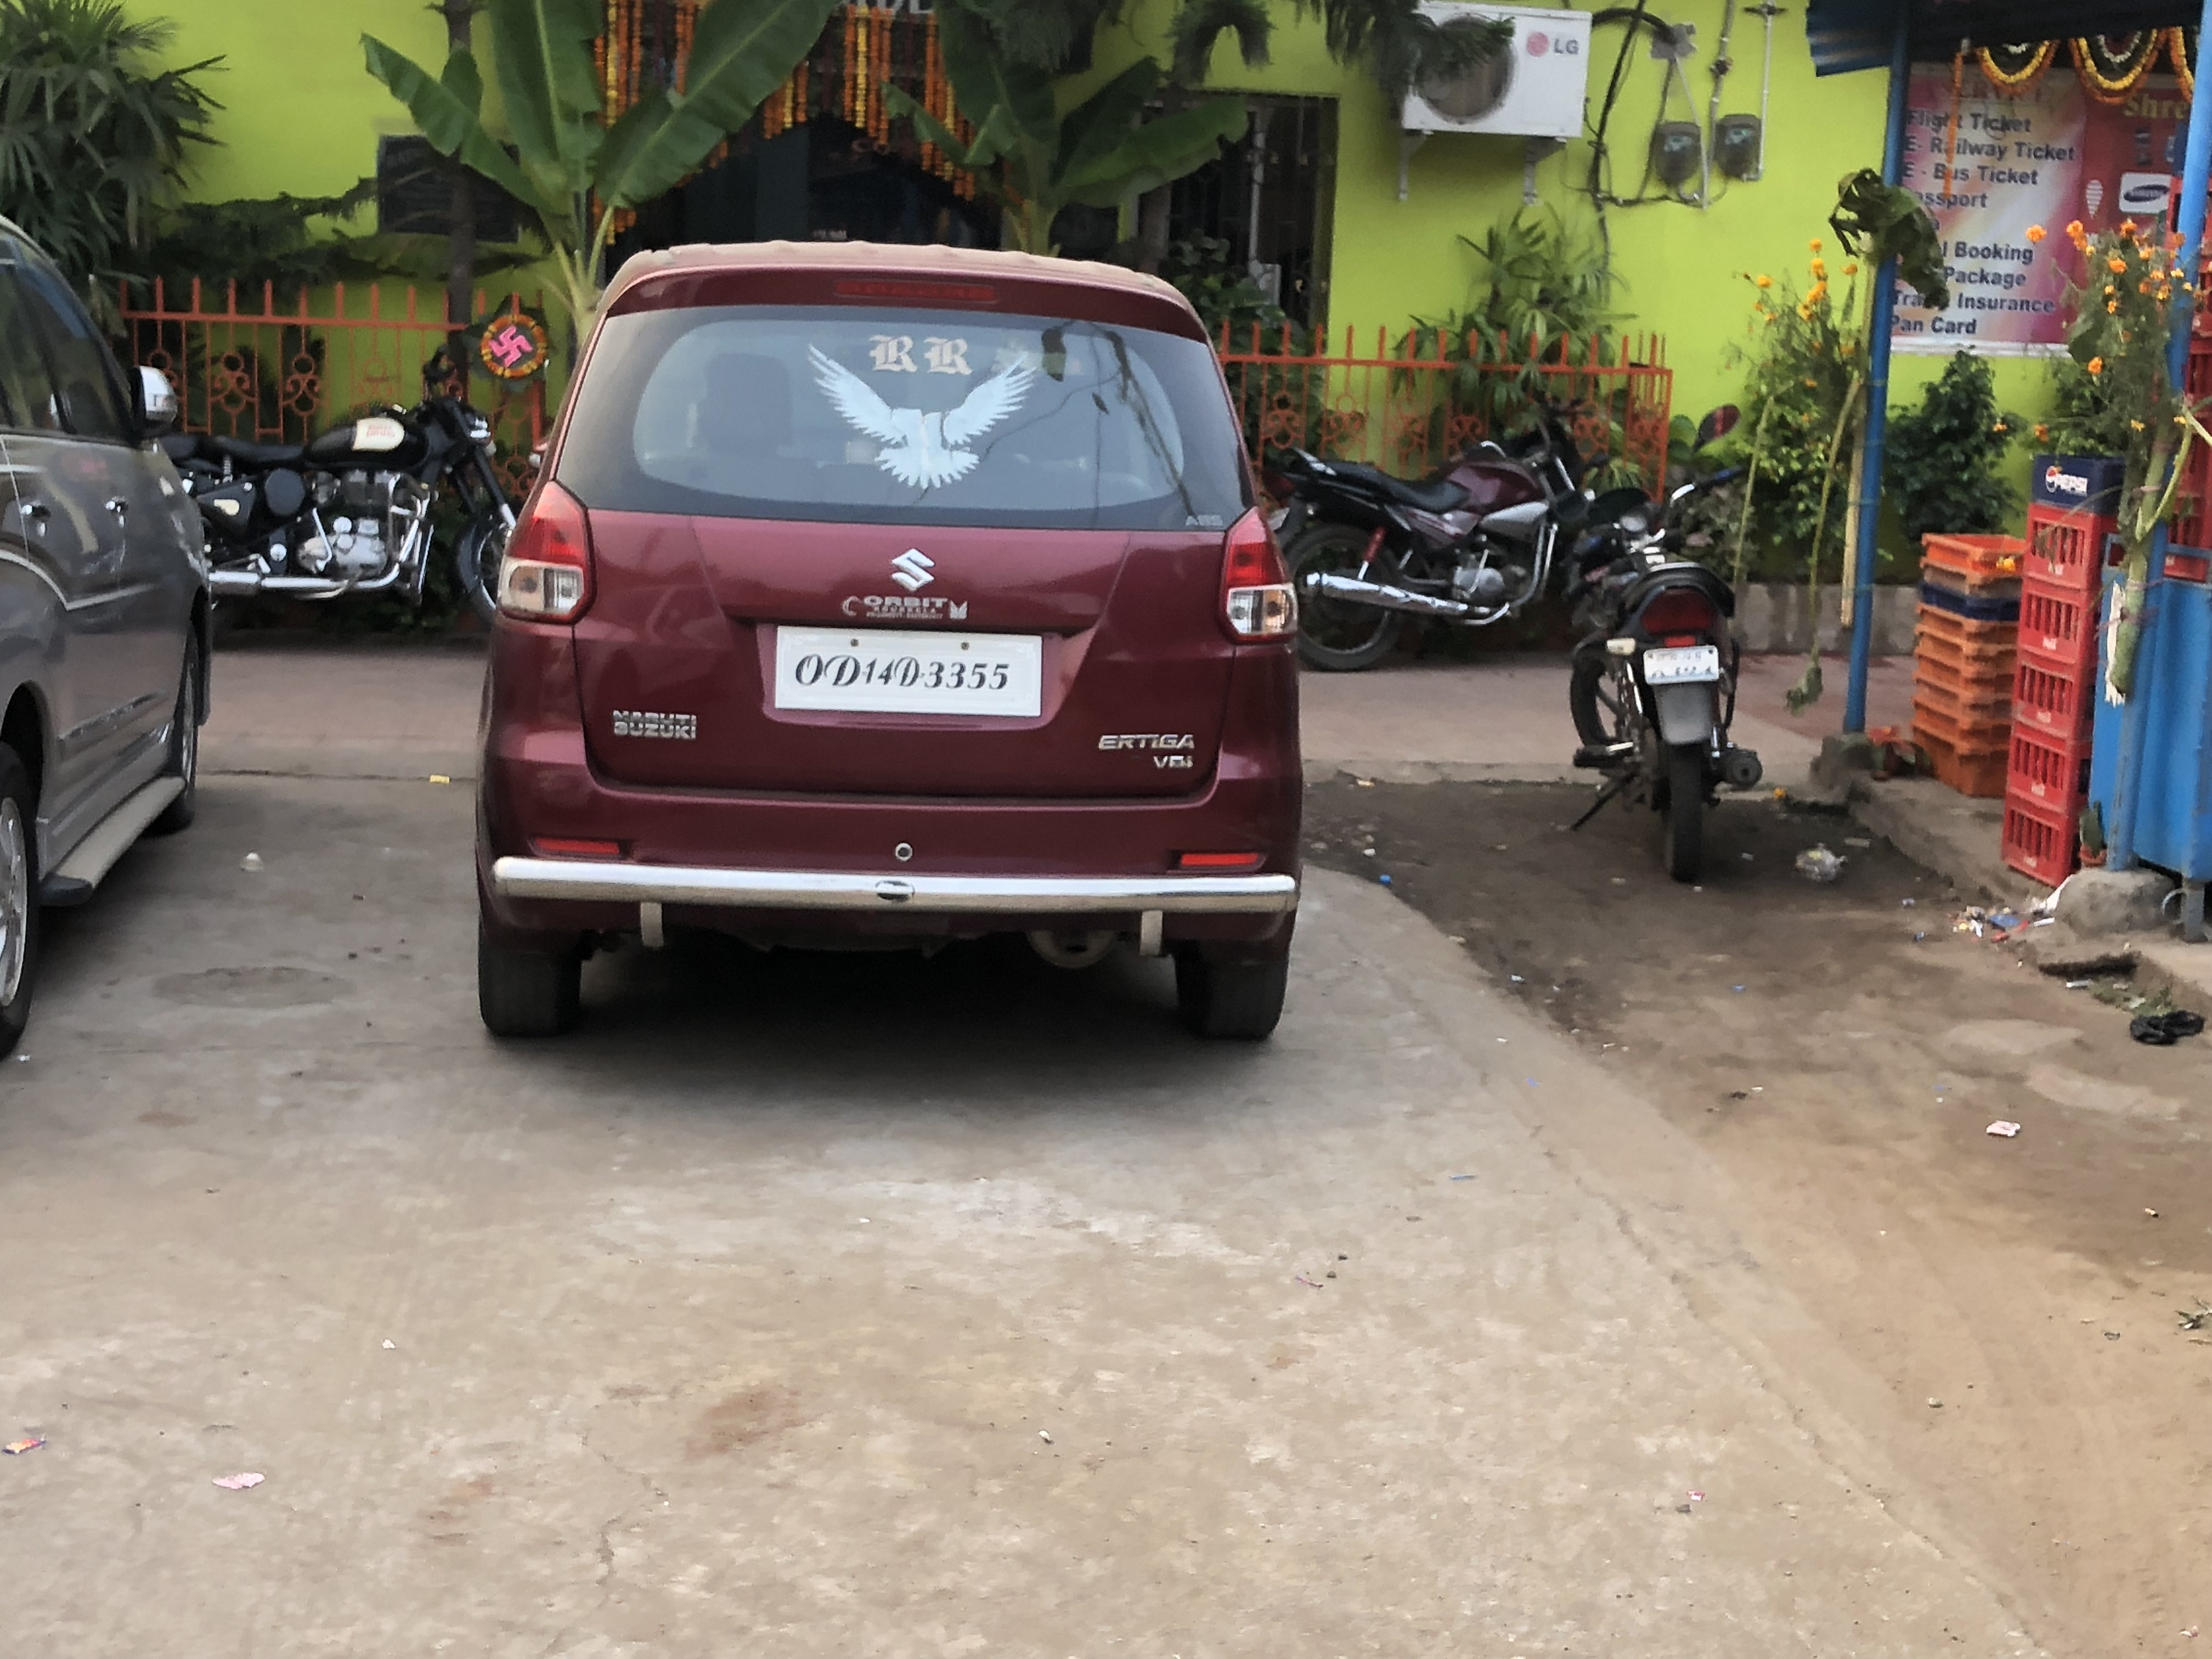licenseplate: (771, 614, 1056, 730)
